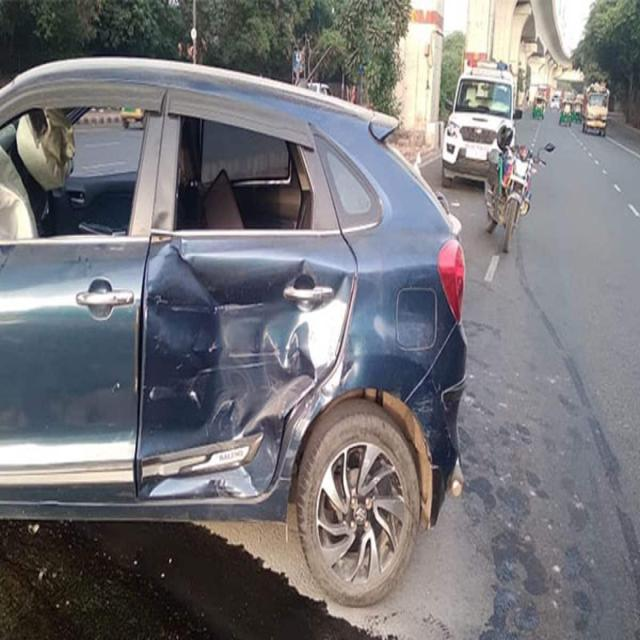accident: (0, 60, 466, 605)
car: (441, 64, 521, 186)
motorcycle: (485, 126, 545, 253)
